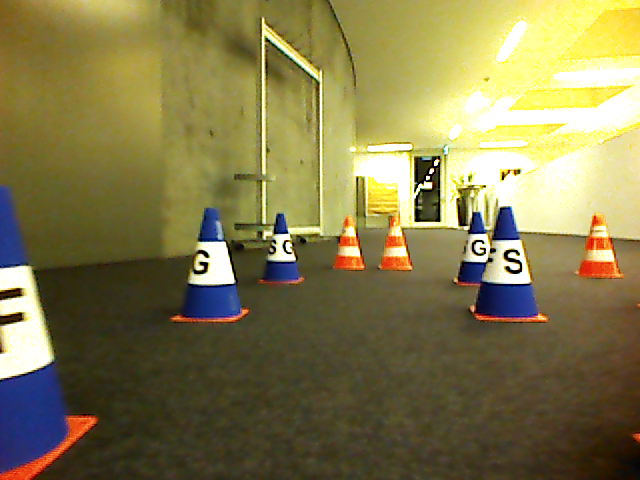bluecone: (168, 206, 250, 326), (259, 213, 307, 287), (456, 210, 488, 287)
